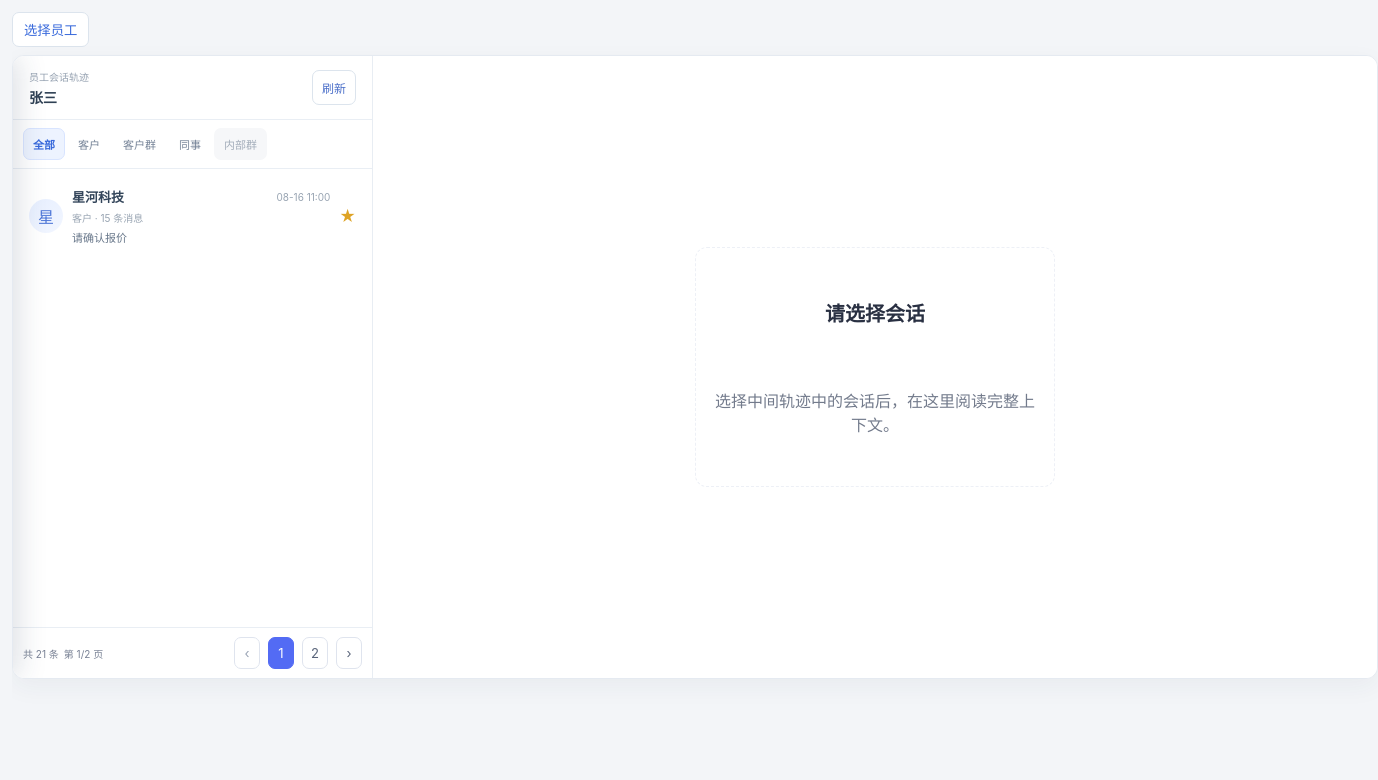
Test case: EmployeeConversationPage › selects employee, queries fixed 20 conversations and opens by stable conversationId
Earlier steps of the test are not shown.
Check: the navigation bar named "会话分页" shows "共 21 条", box top-left (13, 627), bottom-right (372, 678)
Click the button "星 星河科技 08-16 11:00 客户 · 15 条消息 请确认报价 ★" at (46, 216), box top-left (19, 175), bottom-right (366, 257)
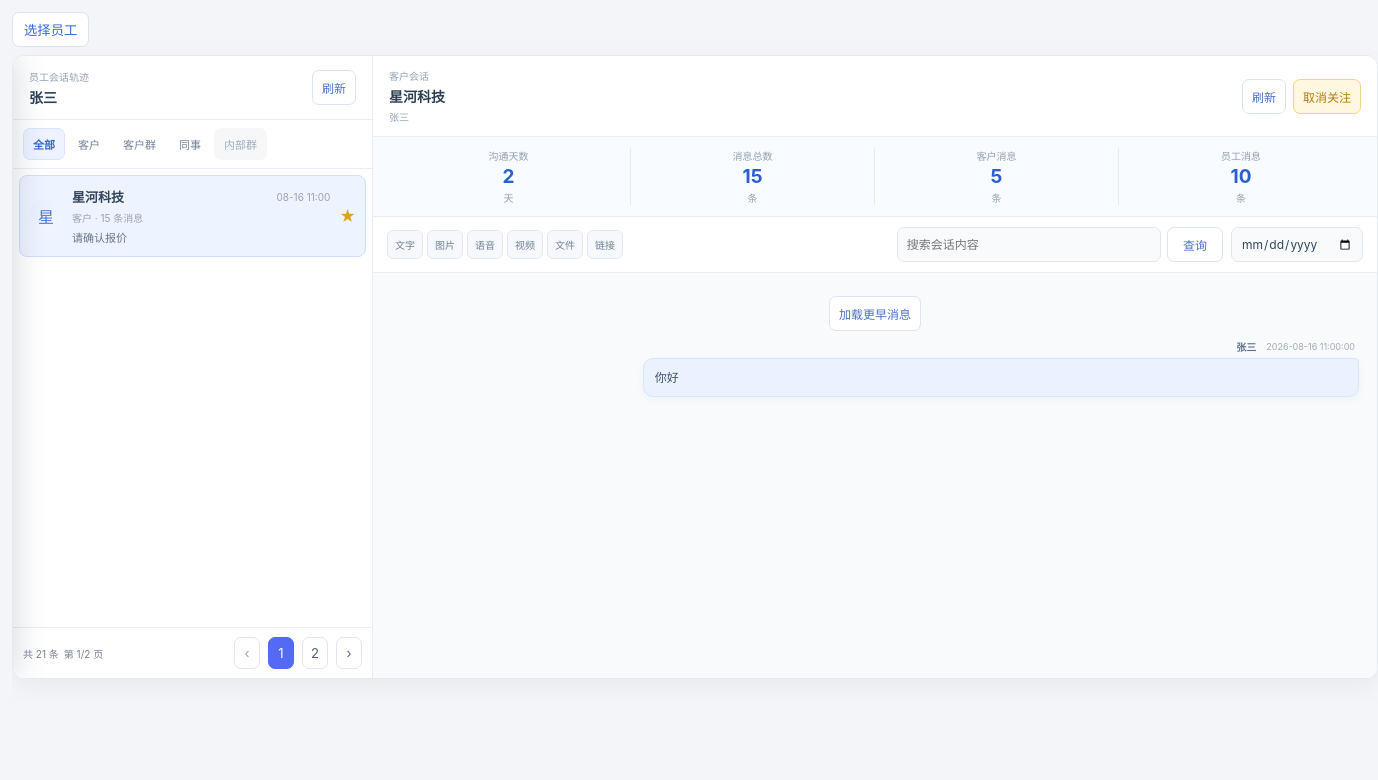
Check: the text "沟通天数" is shown, box top-left (488, 148), bottom-right (528, 163)
Check: the text "15" is shown, box top-left (742, 165), bottom-right (762, 188)
